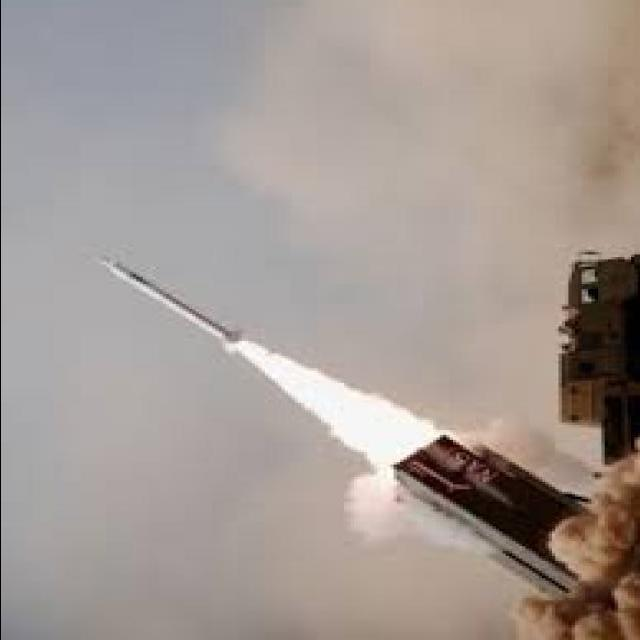missile: (97, 247, 252, 360)
